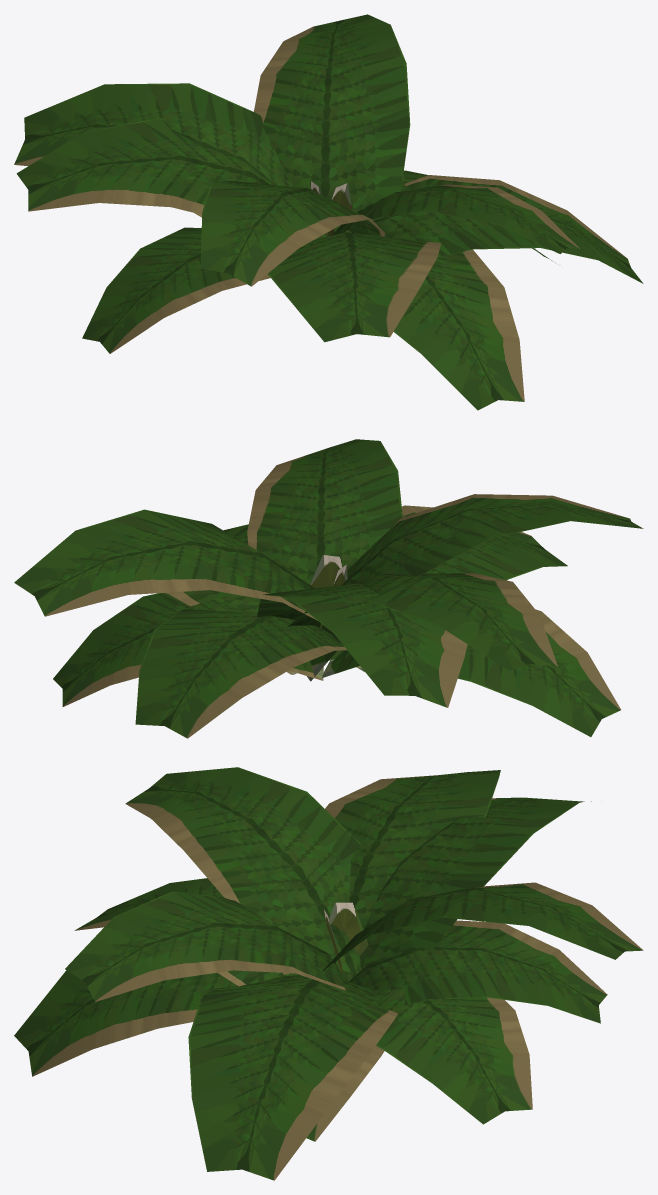
File: ENV_PC_GiantFern_A.fbx
3 views of the same model, one above another, from view 1: azimuth 30°, elevation 25°; view 2: azimuth 150°, elevation 25°; view 3: azimuth 270°, elevation 25° (orthographic). The views are drawn at different scales.
Parts seen in each view (by area): view 1: ENV_PC_GiantFern_A_LOD0; view 2: ENV_PC_GiantFern_A_LOD0; view 3: ENV_PC_GiantFern_A_LOD0.
Boxes of the visible parts, x1,y1,x2,y2 form: ENV_PC_GiantFern_A_LOD0: [14, 14, 643, 410]; ENV_PC_GiantFern_A_LOD0: [14, 439, 643, 738]; ENV_PC_GiantFern_A_LOD0: [14, 767, 643, 1180].
Size of what is drawn, in the model's own units: 3.46 by 1.17 by 3.33.
